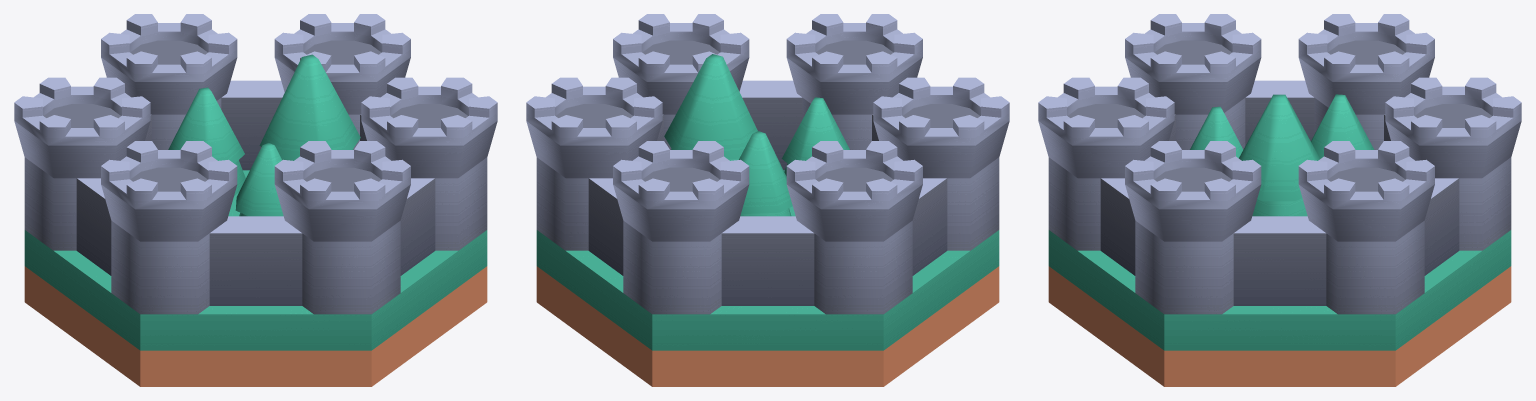
The model's file is building-walls.glb.
3 views of the same model, side by side, from view 1: azimuth 30°, elevation 25°; view 2: azimuth 150°, elevation 25°; view 3: azimuth 270°, elevation 25° (orthographic).
Parts seen in each view (by area): view 1: building-walls; view 2: building-walls; view 3: building-walls.
Part boxes in pixels (<box>): building-walls: <box>14,14,497,386</box>; building-walls: <box>526,14,1009,386</box>; building-walls: <box>1038,14,1521,386</box>.
Bounding box in the file's own units: 1.04 × 0.637 × 1.21.
1 material, 1 textured.
